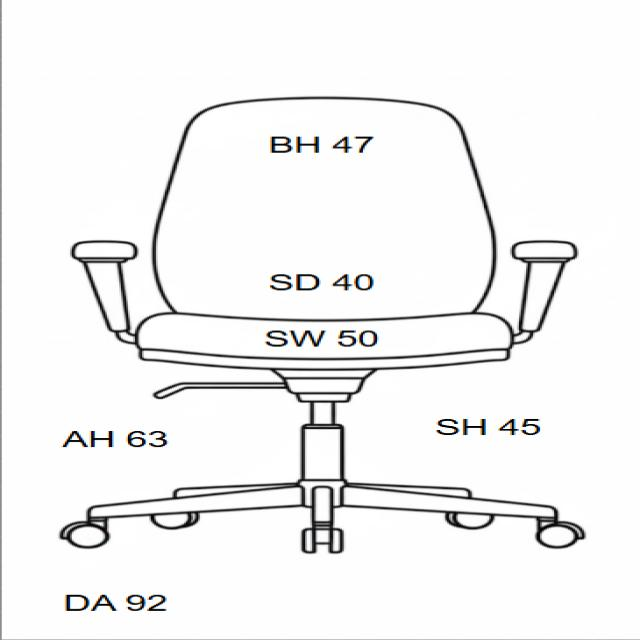5_Star_Base: (61, 482, 583, 554)
AH_Label: (54, 425, 188, 465)
Armrest: (66, 244, 138, 331), (515, 240, 578, 337)
BH_Label: (250, 117, 396, 163)
Backrest: (157, 98, 497, 320)
Base: (142, 344, 516, 370)
Caster_Wheel: (54, 519, 120, 547), (537, 519, 587, 545), (147, 511, 198, 533), (446, 511, 494, 532)
Control_Mechanism: (155, 381, 282, 398)
DA_Label: (54, 579, 179, 618)
SD_Label: (260, 256, 386, 296)
SH_Label: (424, 412, 579, 448)
SW_Label: (250, 320, 397, 352)
Seat: (139, 312, 514, 357)
